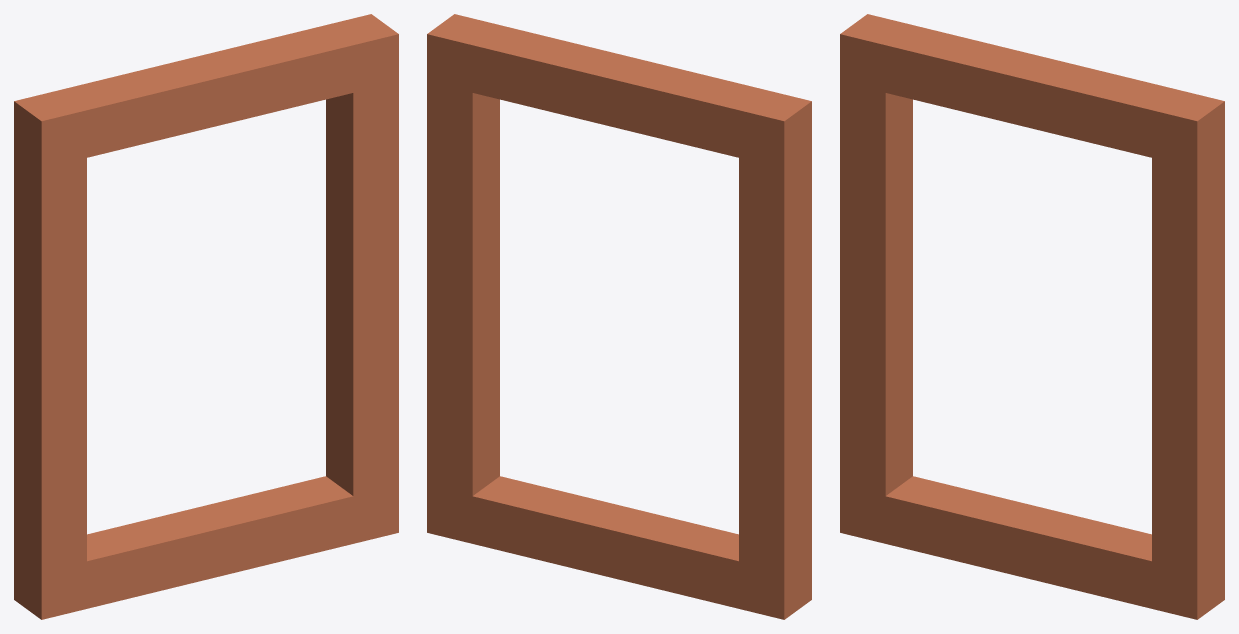
The model's file is window-brown-large.obj.
3 views of the same model, side by side, from view 1: azimuth 30°, elevation 25°; view 2: azimuth 150°, elevation 25°; view 3: azimuth 330°, elevation 25° (orthographic).
Size of the model in its own units: 0.375 by 0.5 by 0.05.
